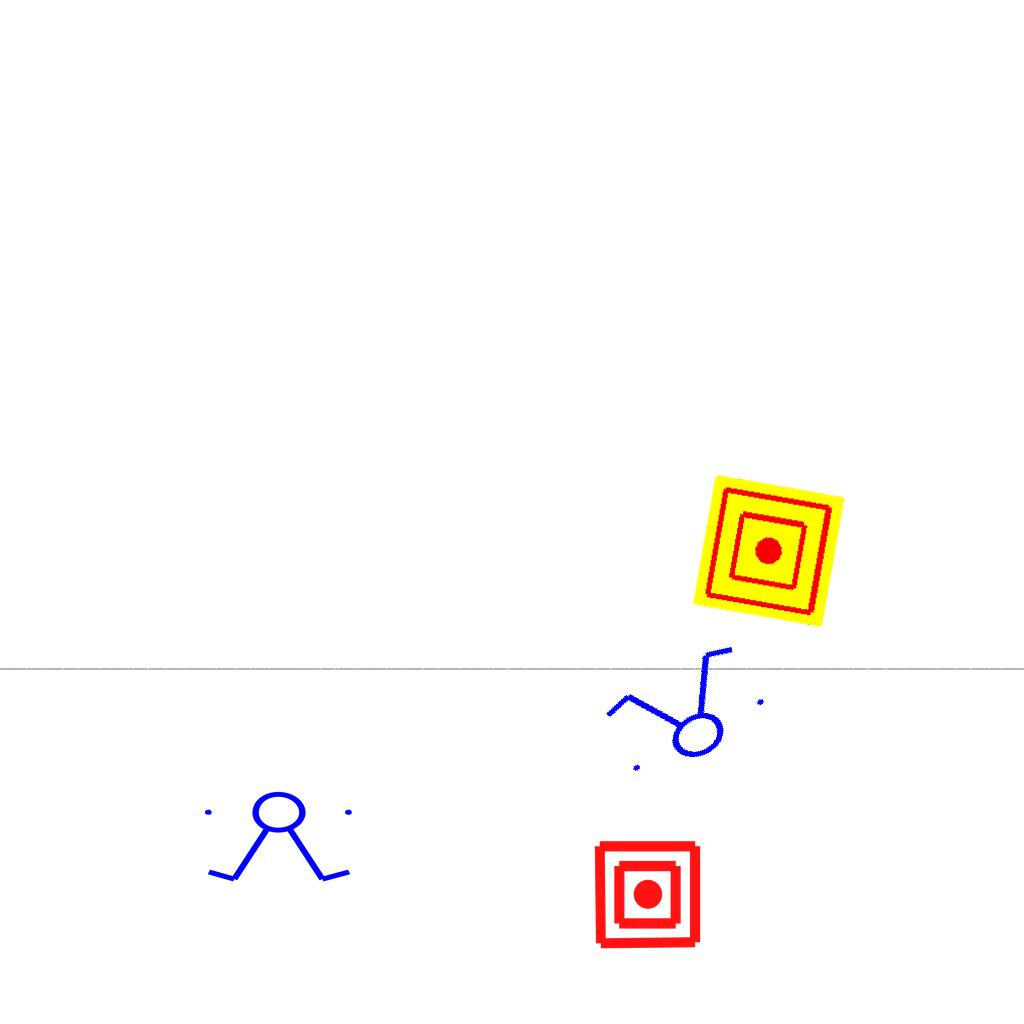NAM-Nichtautomatischer_Melder: (692, 474, 846, 628), (591, 838, 704, 951)
Serienschalter: (588, 631, 782, 795), (196, 790, 364, 886)
